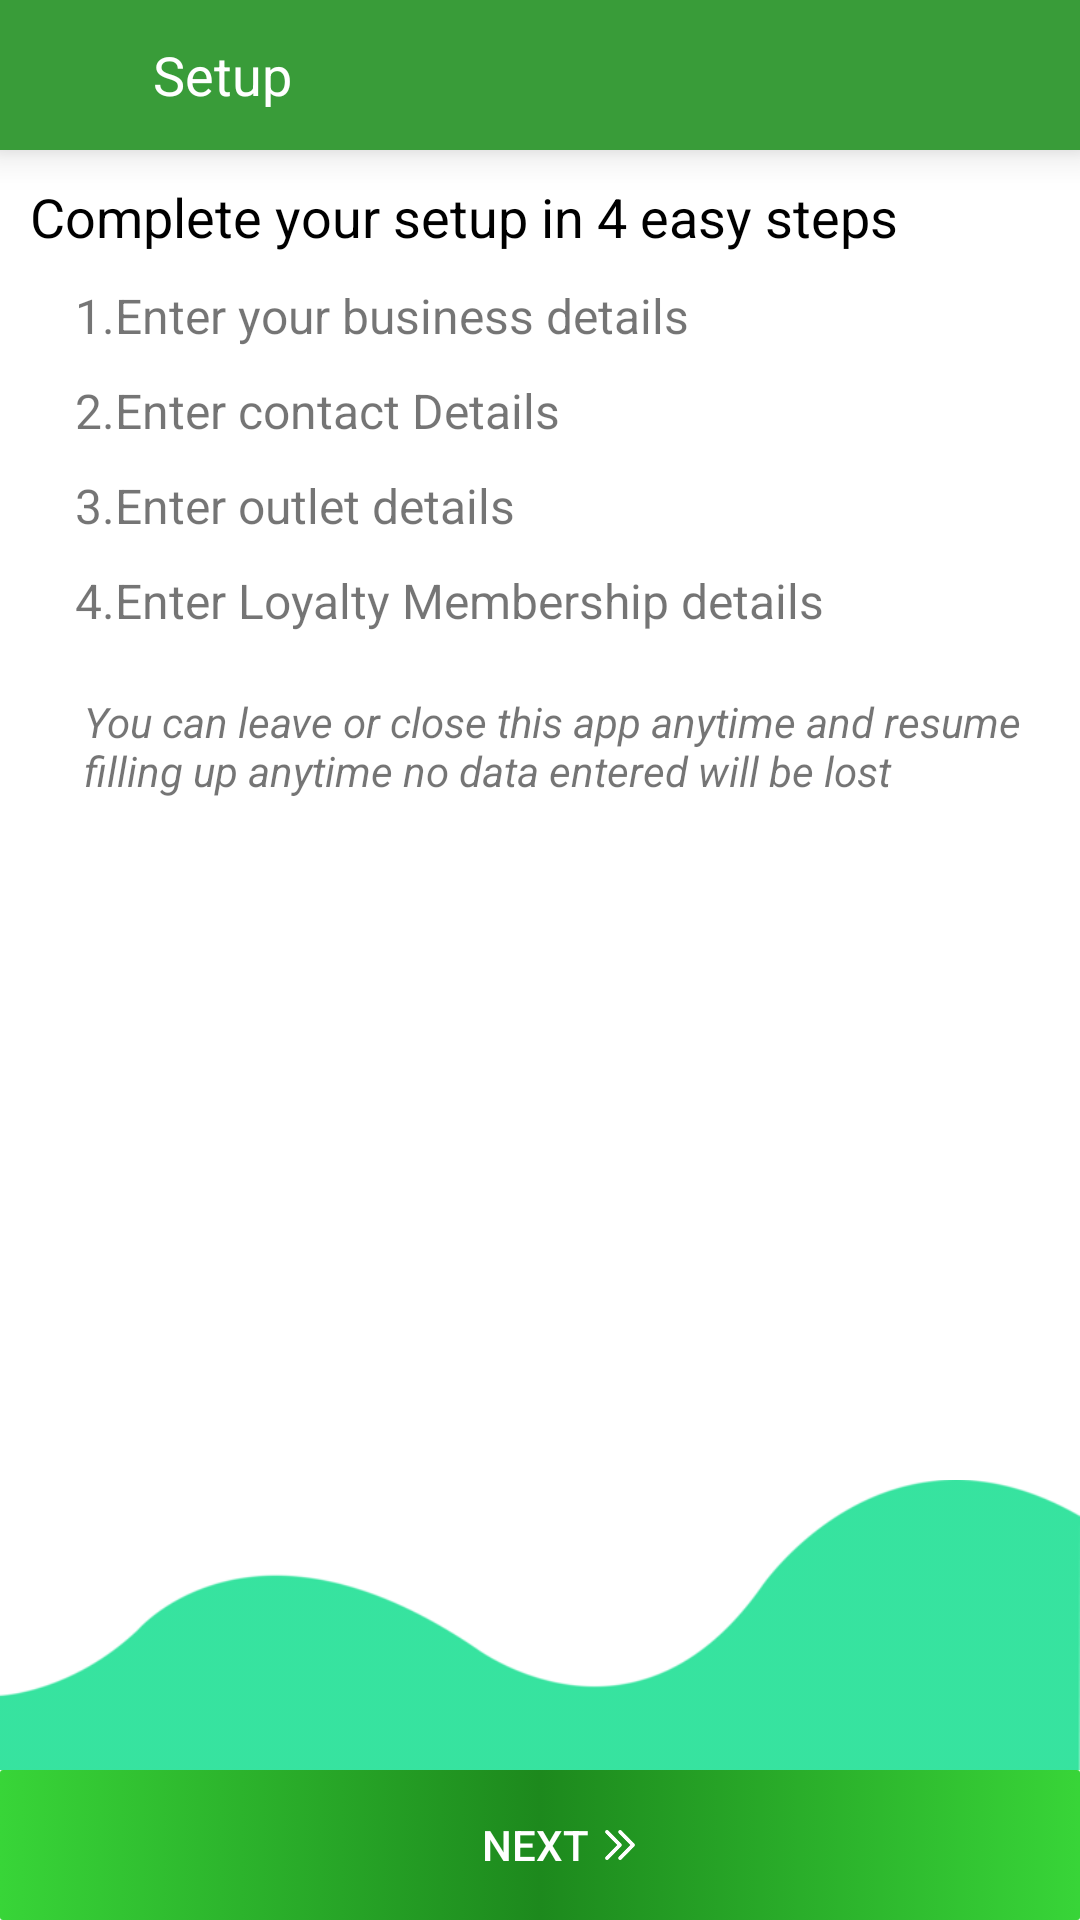

Where icons sit on this 1080 x 1920 app screen, as (x1, y1, x2, y2):
arrow: (605, 1830, 635, 1860)
